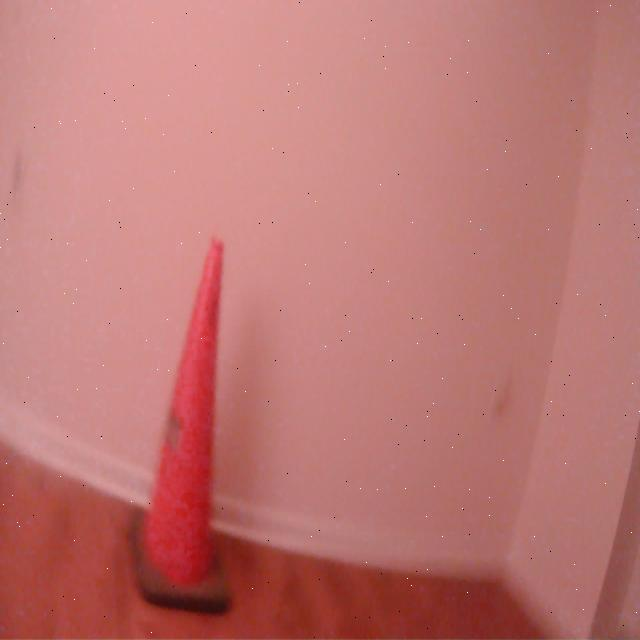traffic cone: (129, 232, 243, 620)
